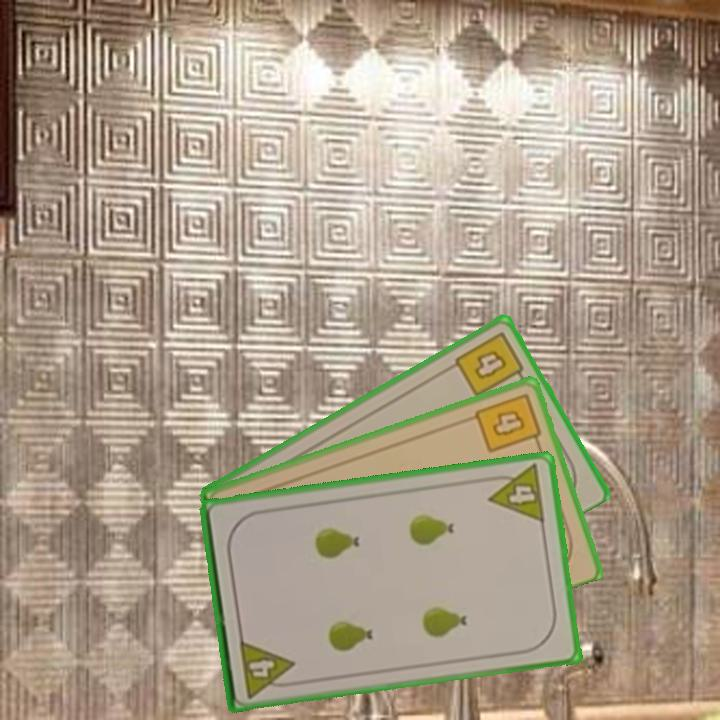4b: (451, 327, 529, 400), (471, 389, 544, 456)
4p: (483, 461, 548, 526), (236, 636, 299, 701)
